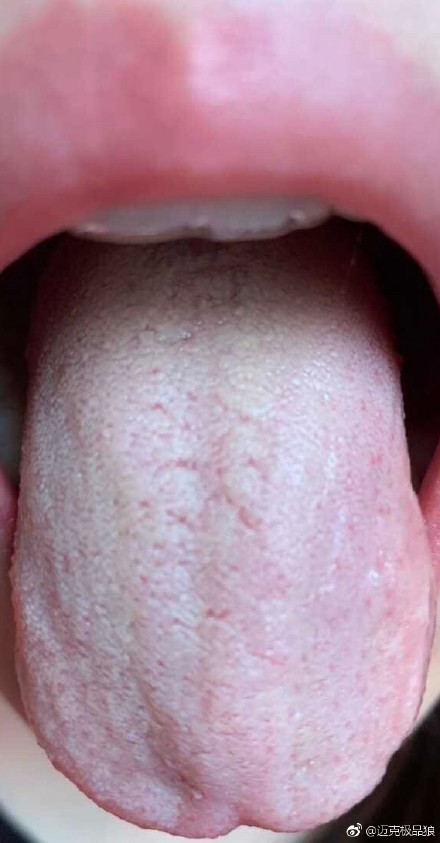baitaishe: (9, 237, 436, 838)
xinfeiao: (183, 810, 304, 837)
